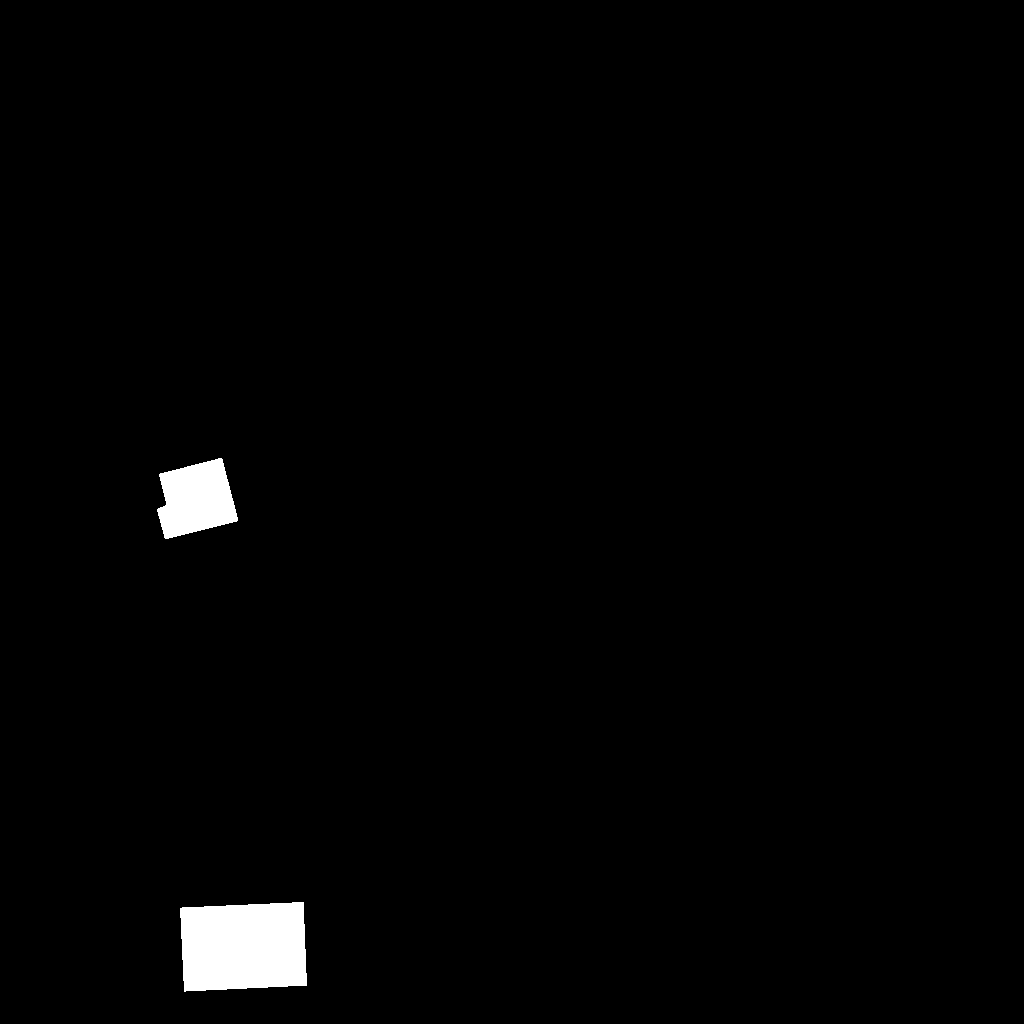building: (180, 902, 308, 992), (157, 458, 239, 540)
